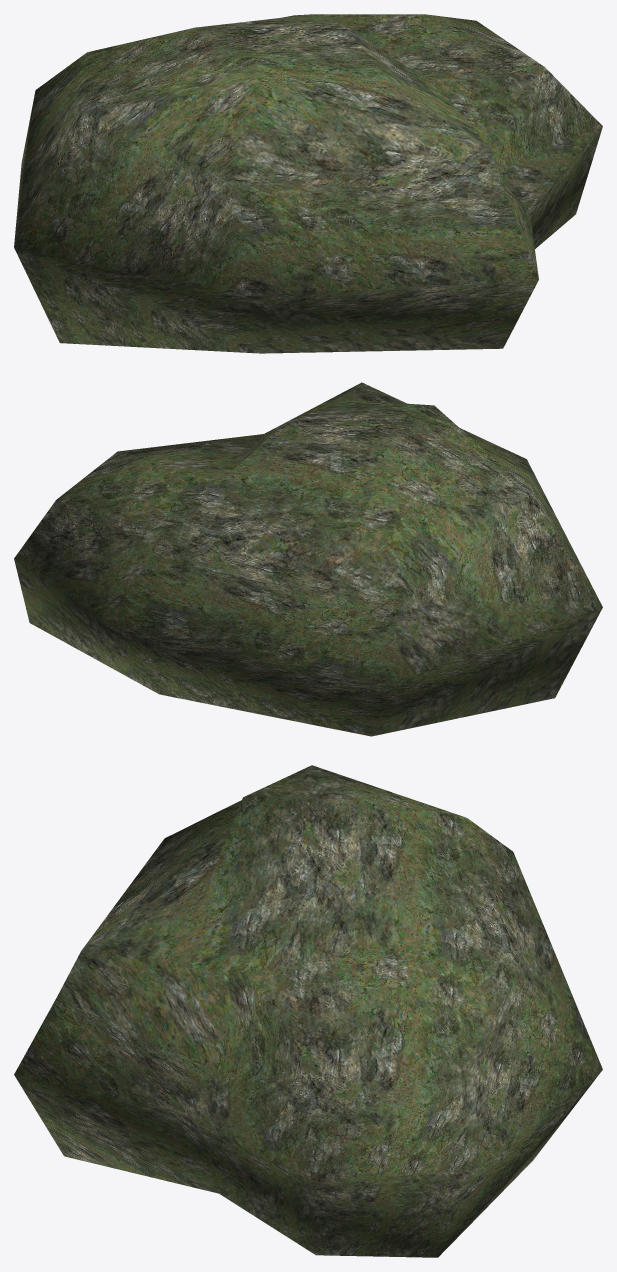
Rendered from mtns_rock_moss_a4_l0.fbx.
The picture shows the model from 3 angles, top to bottom: view 1: azimuth 30°, elevation 25°; view 2: azimuth 150°, elevation 25°; view 3: azimuth 270°, elevation 25°; orthographic projection. The views are drawn at different scales.
Visible parts, largest first — view 1: mesh_node; view 2: mesh_node; view 3: mesh_node.
Part boxes in pixels (<box>): mesh_node: <box>14,14,602,353</box>; mesh_node: <box>14,382,602,736</box>; mesh_node: <box>14,765,602,1257</box>.
Bounding box in the file's own units: 2.31 × 0.9825 × 1.88.
